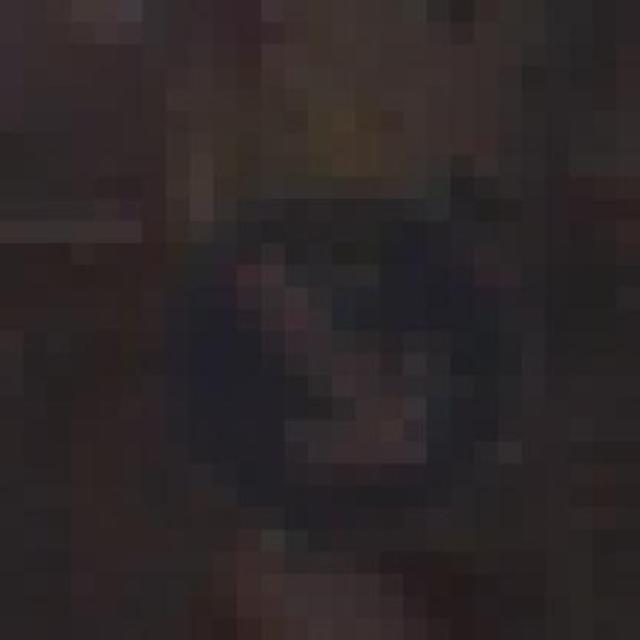Keep-Right: (142, 198, 546, 574)
